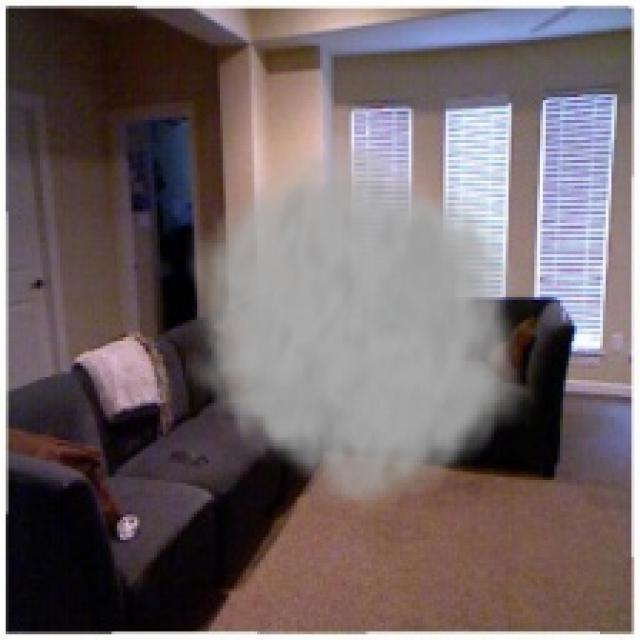Smoke: (185, 125, 538, 520)
